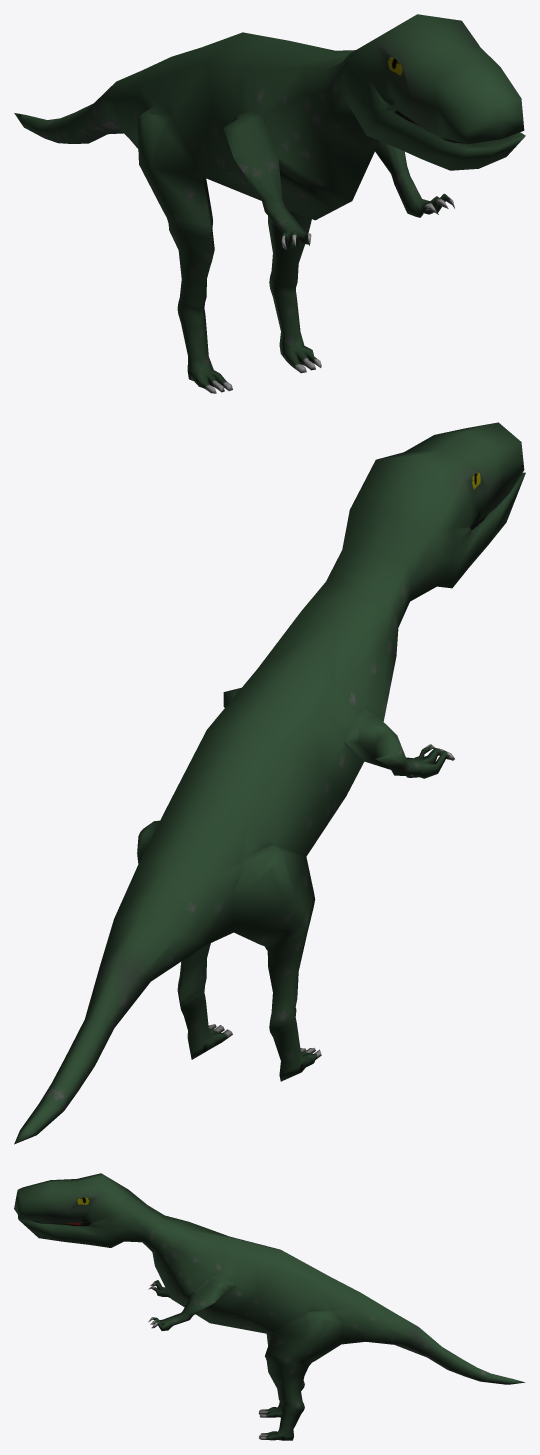
The model's file is albertosaurus.glb.
3 views of the same model, one above another, from view 1: azimuth 30°, elevation 25°; view 2: azimuth 150°, elevation 25°; view 3: azimuth 270°, elevation 25° (orthographic). The views are drawn at different scales.
Parts seen in each view (by area): view 1: Cube; view 2: Cube; view 3: Cube.
Part boxes in pixels (x1,y1,x2,y2): Cube: (14, 14, 525, 393); Cube: (14, 422, 525, 1144); Cube: (14, 1173, 525, 1440).
Bounding box in the file's own units: 6.11 × 16.44 × 30.11.
Materials: 1 (1 with a texture image).
